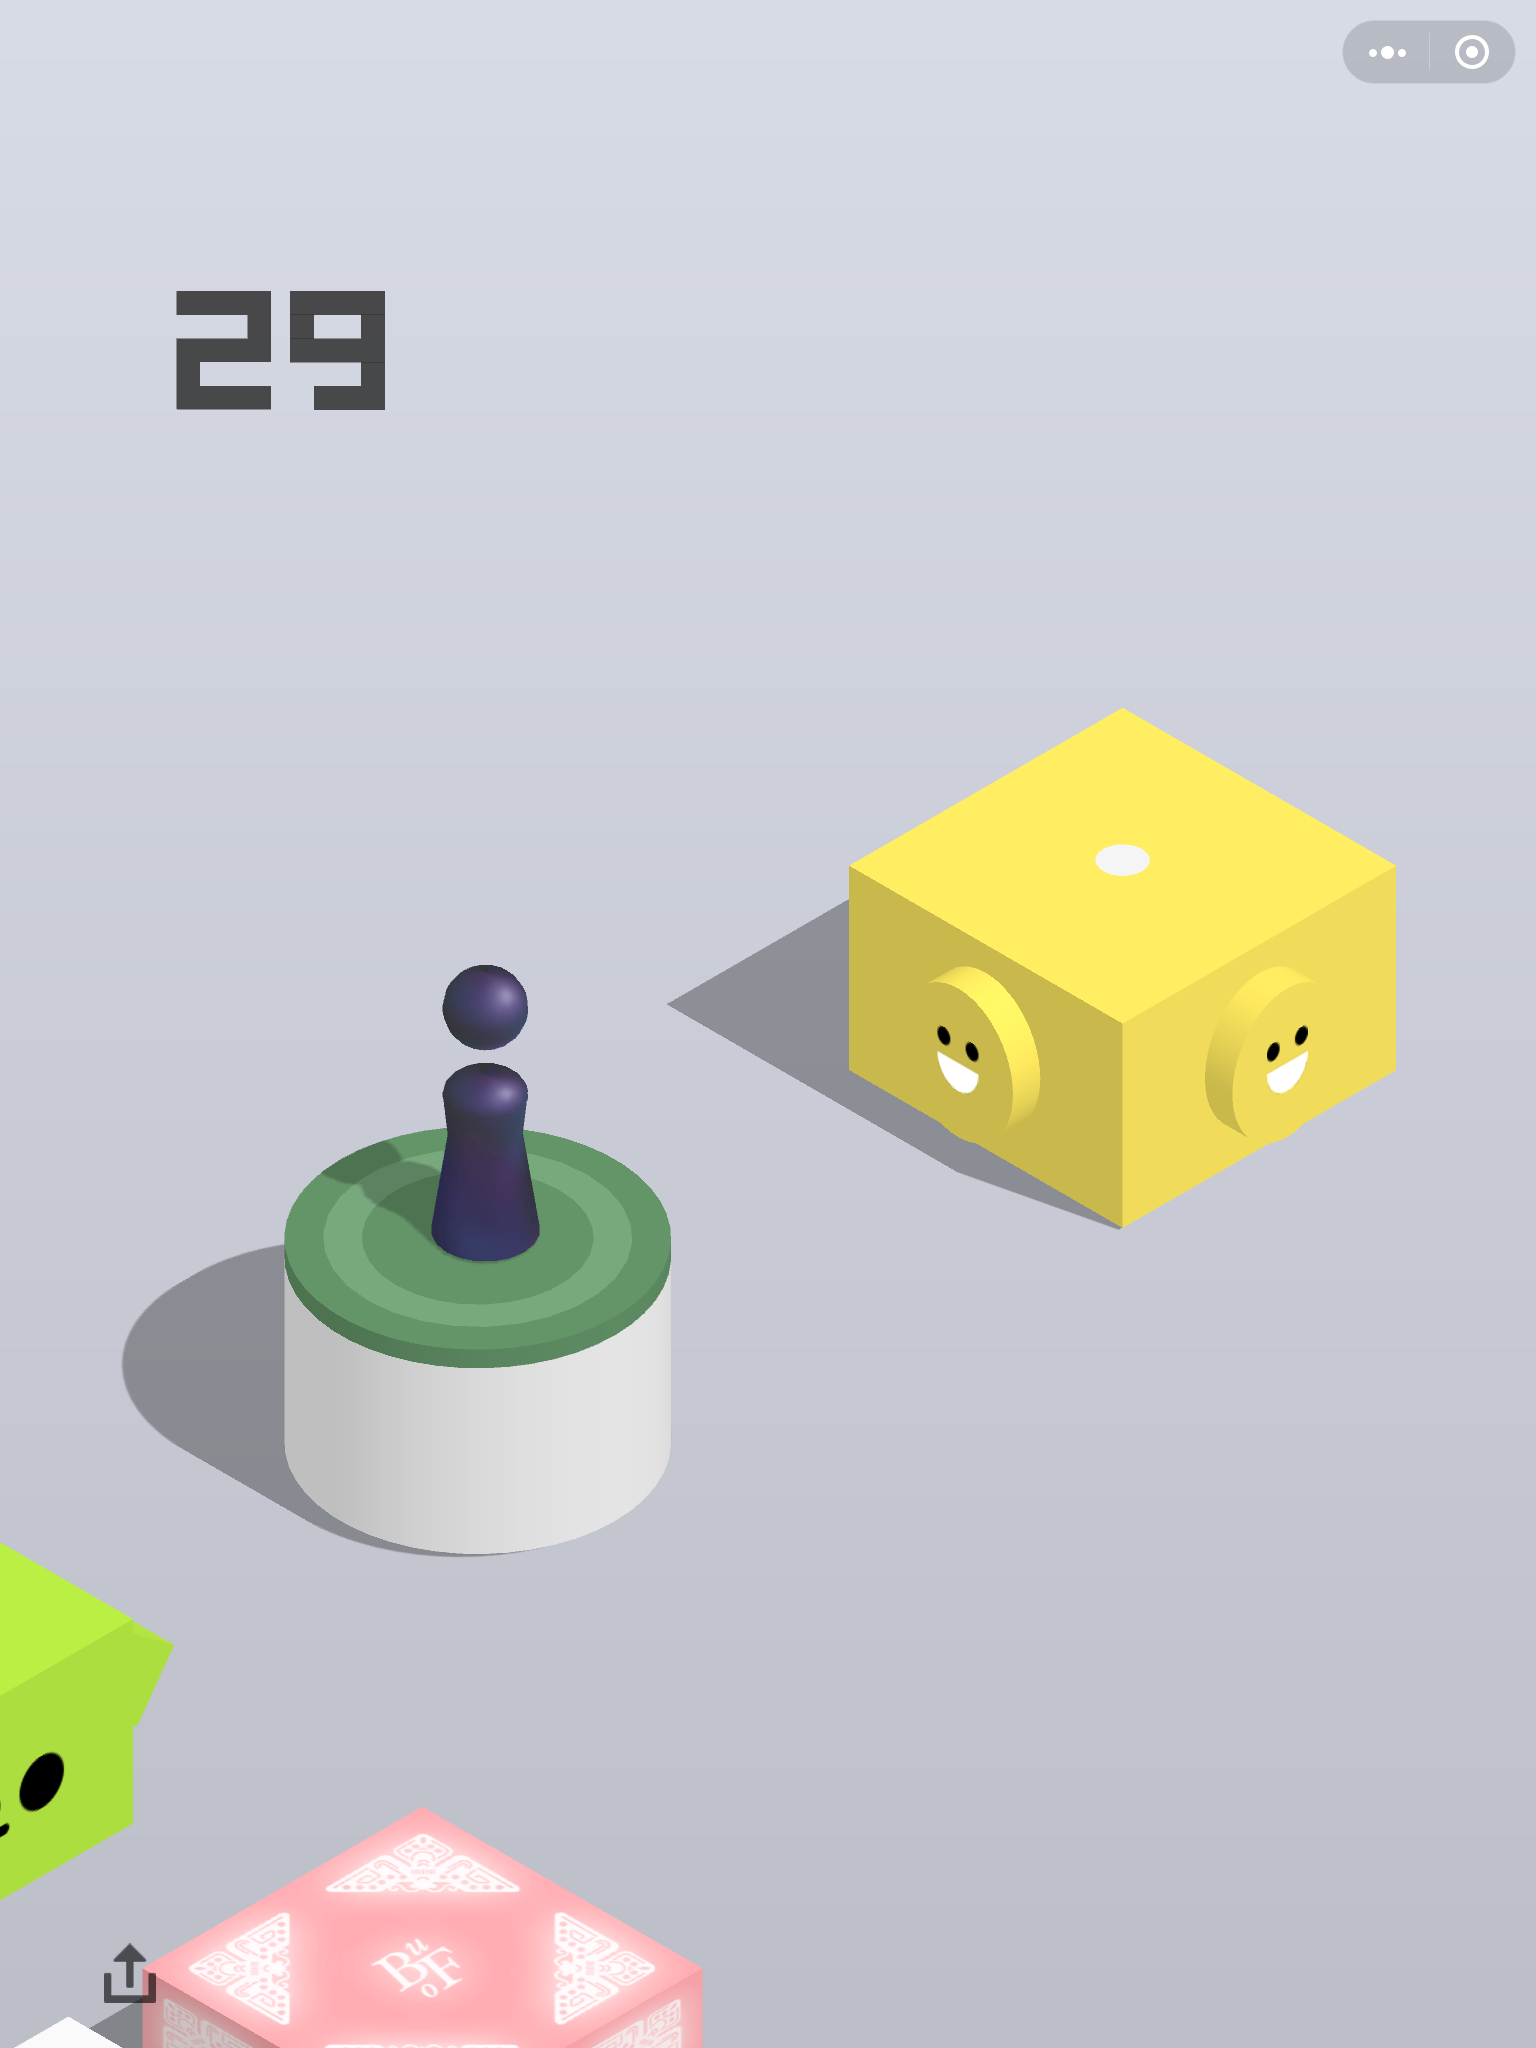c: (281, 1119, 674, 1558)
f: (847, 705, 1402, 1230), (136, 1795, 715, 2048), (2, 1535, 177, 1908)
r: (426, 959, 547, 1266)
